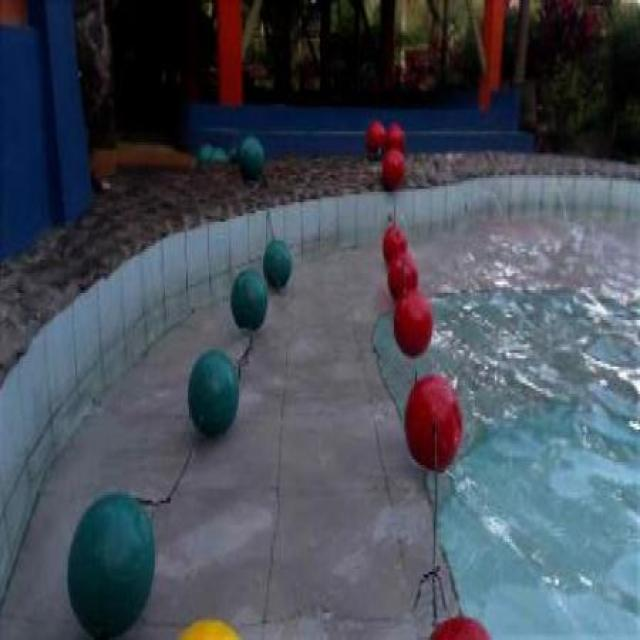buoy: (66, 490, 156, 636), (403, 366, 462, 466), (186, 347, 239, 435), (388, 284, 437, 356), (230, 268, 268, 328), (387, 249, 419, 299), (262, 240, 292, 285), (382, 222, 409, 264), (239, 134, 263, 178), (382, 146, 402, 188)
